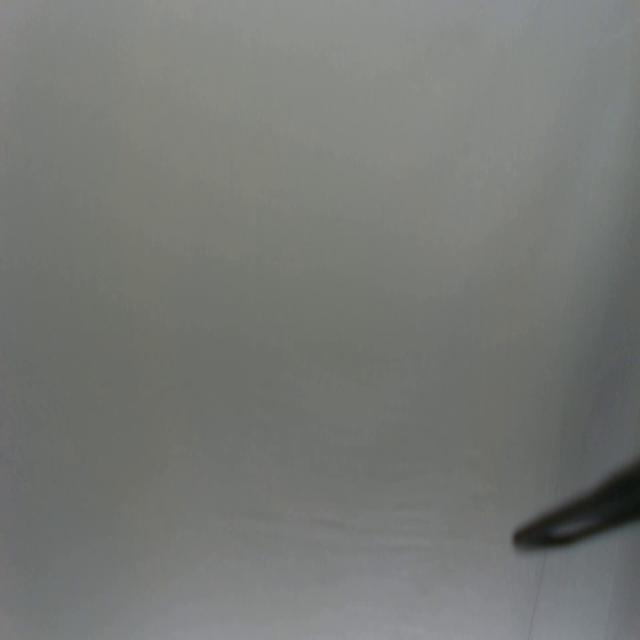crease: (528, 555, 549, 640)
